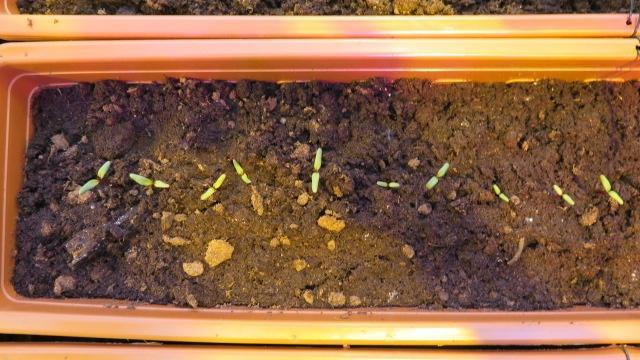crop: (73, 156, 112, 195), (197, 171, 228, 201), (597, 172, 624, 206), (422, 159, 453, 188), (306, 145, 324, 194), (126, 171, 172, 189), (228, 156, 253, 184), (548, 182, 576, 206), (487, 181, 511, 203), (373, 180, 401, 187)
